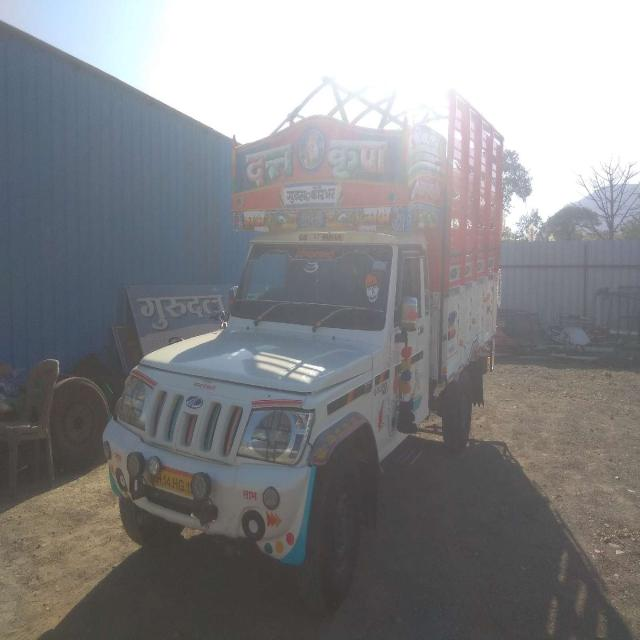light_vehicle: (103, 125, 508, 545)
